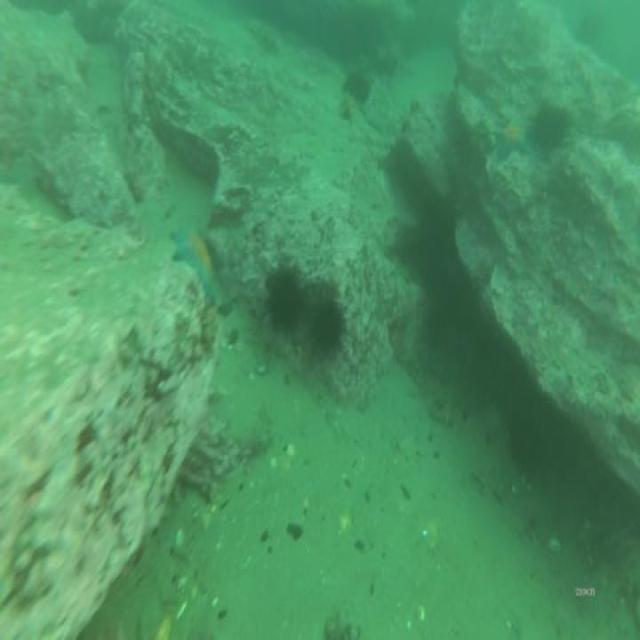echinus: (266, 267, 302, 337), (310, 296, 342, 356), (531, 104, 565, 148), (346, 66, 370, 102)
starfish: (170, 226, 220, 300), (493, 123, 527, 160)
